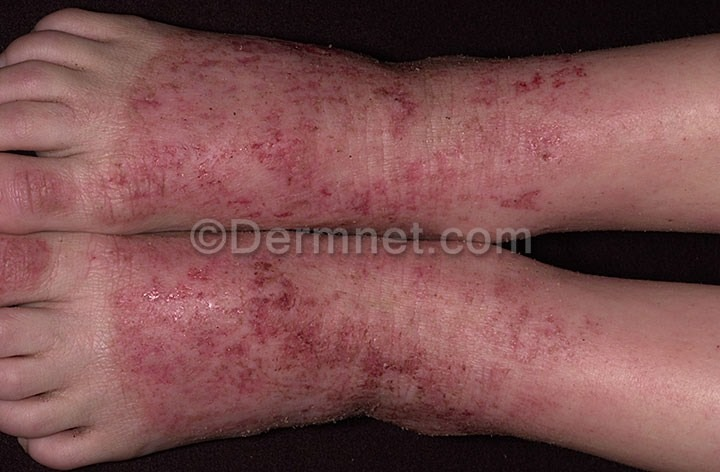Eczema: (115, 30, 719, 243), (97, 242, 720, 445), (4, 164, 89, 218), (1, 235, 63, 299), (46, 80, 103, 137)
